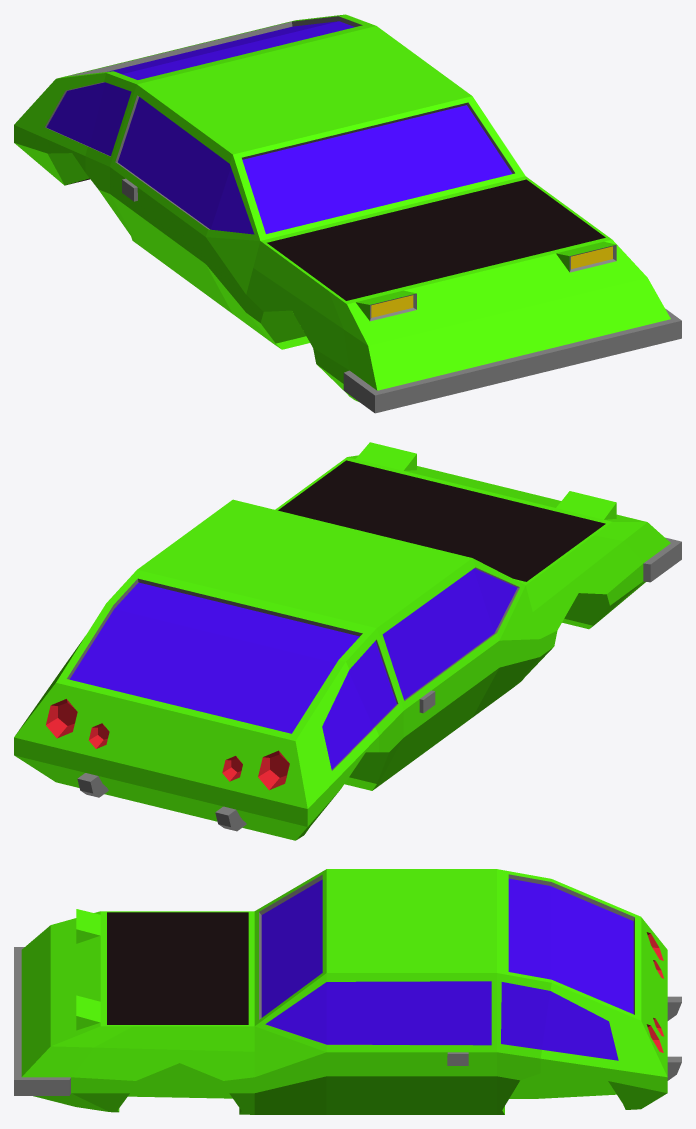
Rendered from JPNCarB 1.fbx.
The picture shows the model from 3 angles, top to bottom: view 1: azimuth 30°, elevation 25°; view 2: azimuth 150°, elevation 25°; view 3: azimuth 270°, elevation 25°; orthographic projection. The views are drawn at different scales.
Visible parts, largest first — view 1: Cube.003; view 2: Cube.003; view 3: Cube.003.
Boxes of the visible parts, box(x1,y1,x2,y2) form: Cube.003: box(14, 14, 681, 413); Cube.003: box(14, 442, 681, 840); Cube.003: box(14, 869, 681, 1114).
Size of the model in its own units: 200 by 99.33 by 424.
